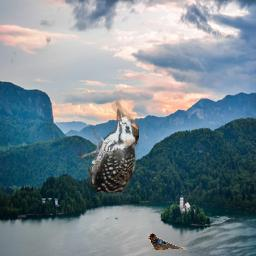Swallow: (148, 233, 187, 250)
Woodpecker: (79, 101, 139, 192)
